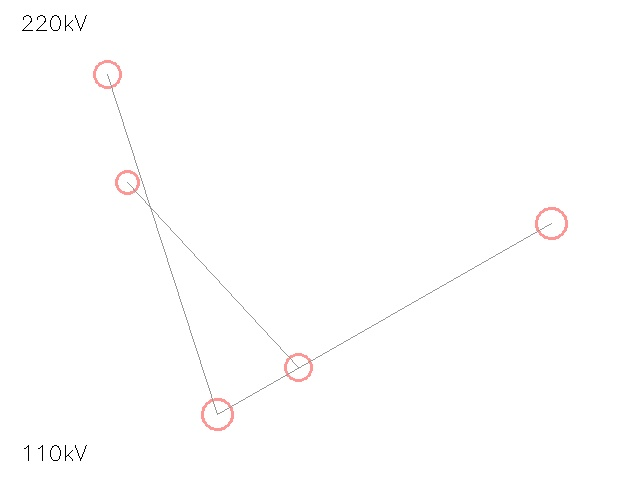current_transformer: (272, 341, 324, 393)
disconnect_switch: (521, 193, 581, 253)
reactor: (105, 160, 149, 204)
voltage_transformer: (186, 383, 248, 445), (80, 47, 134, 101)
